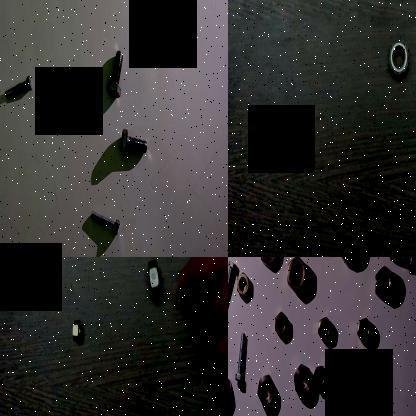Bolts: (85, 203, 120, 240), (0, 70, 34, 105), (117, 126, 147, 165), (104, 48, 124, 102), (235, 325, 249, 389), (228, 257, 238, 315), (387, 257, 416, 276)
NUTS: (387, 34, 411, 82), (370, 262, 396, 302), (142, 257, 162, 301), (254, 372, 276, 408), (283, 257, 305, 292), (290, 364, 310, 398), (234, 270, 252, 301), (315, 313, 334, 341), (312, 360, 328, 392), (290, 108, 304, 142), (271, 309, 289, 335), (70, 314, 84, 347), (358, 316, 369, 344), (338, 257, 361, 268), (259, 257, 279, 268), (228, 371, 232, 412)
